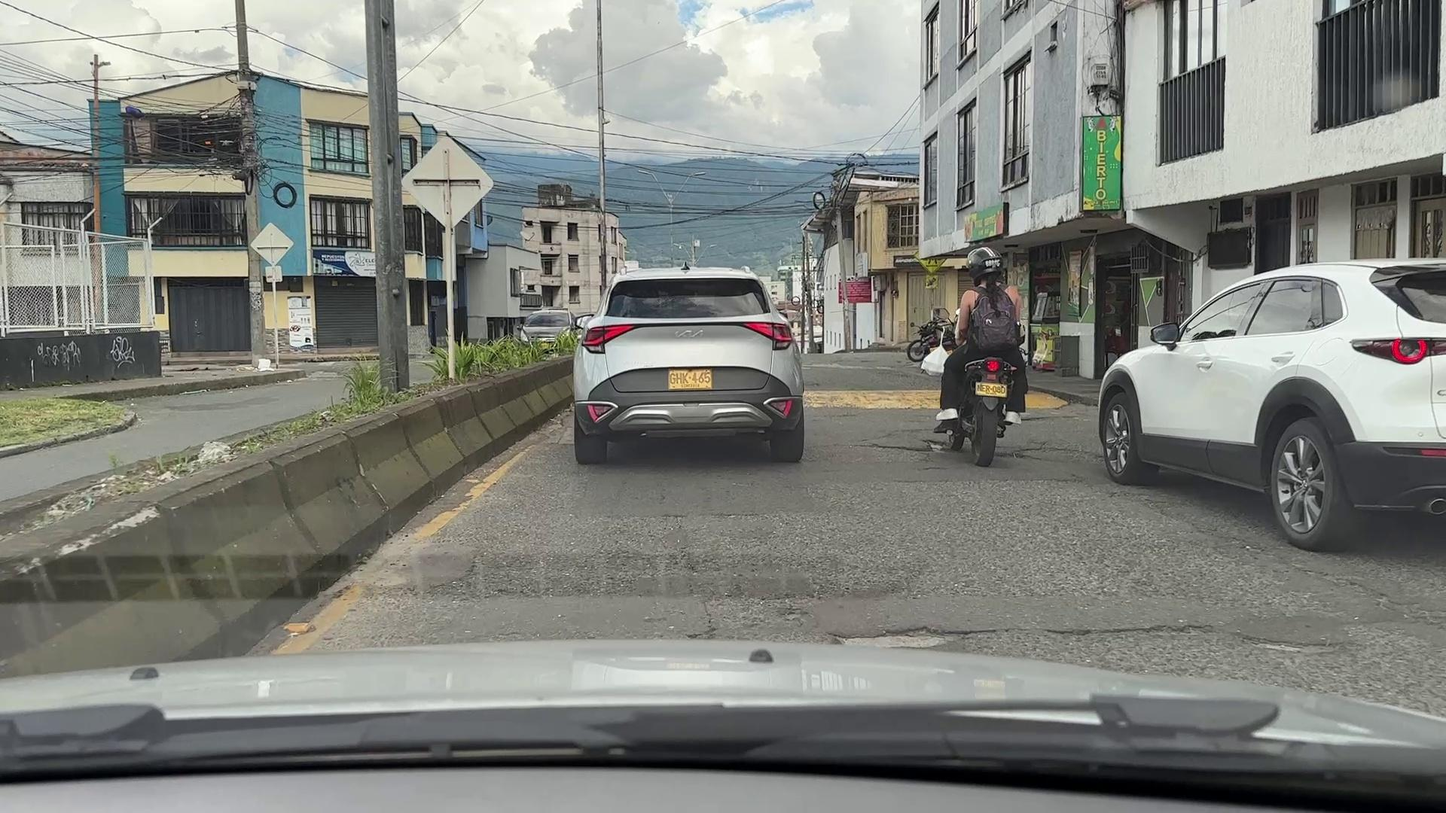bache: (830, 627, 995, 653), (1235, 632, 1342, 654), (869, 440, 959, 453)
grieta: (1043, 625, 1212, 636), (995, 441, 1080, 460), (686, 601, 719, 640)
